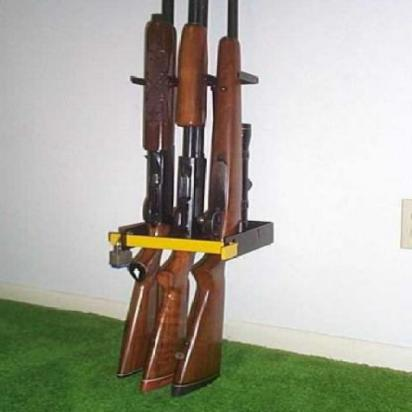Gun: (172, 0, 253, 401)
